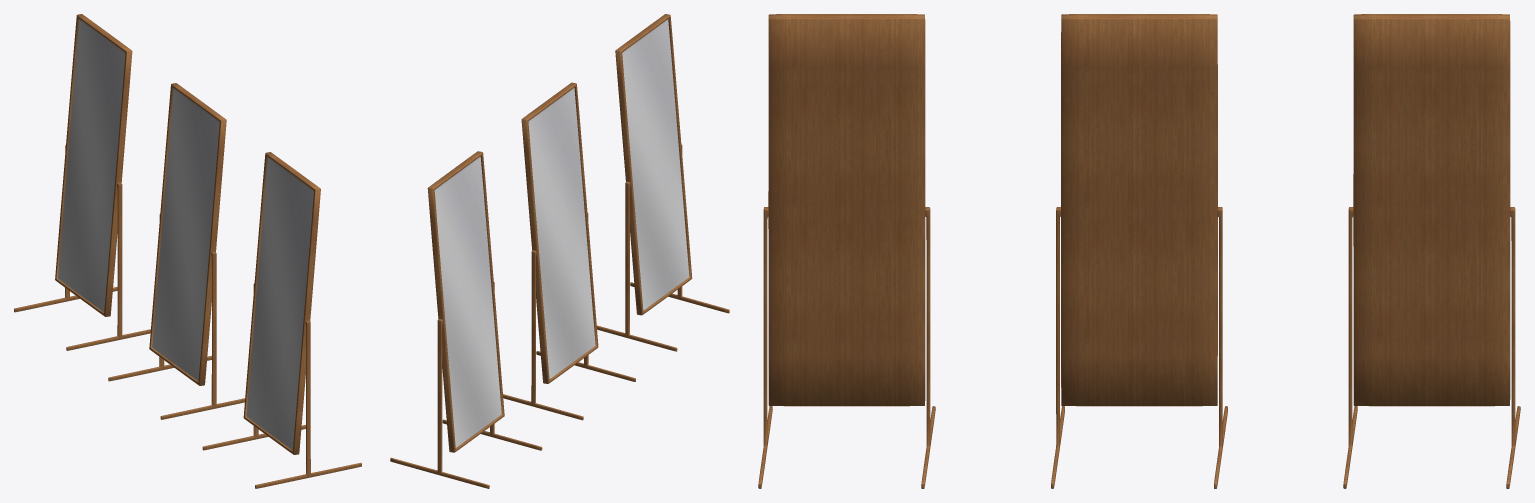
File: espejos.obj
3 renders of one model, left to right at view 1: azimuth 30°, elevation 25°; view 2: azimuth 150°, elevation 25°; view 3: azimuth 270°, elevation 25°, orthographic. The views are drawn at different scales.
Visible parts, largest first — view 1: espejos; view 2: espejos; view 3: espejos.
Boxes of the visible parts, x1=… form: espejos: x1=14, y1=14, x2=361, y2=488; espejos: x1=390, y1=14, x2=729, y2=488; espejos: x1=758, y1=14, x2=1520, y2=488.
Bounding box in the file's own units: 9.47 × 25.05 × 39.08.
Materials: 2 (2 with a texture image).
